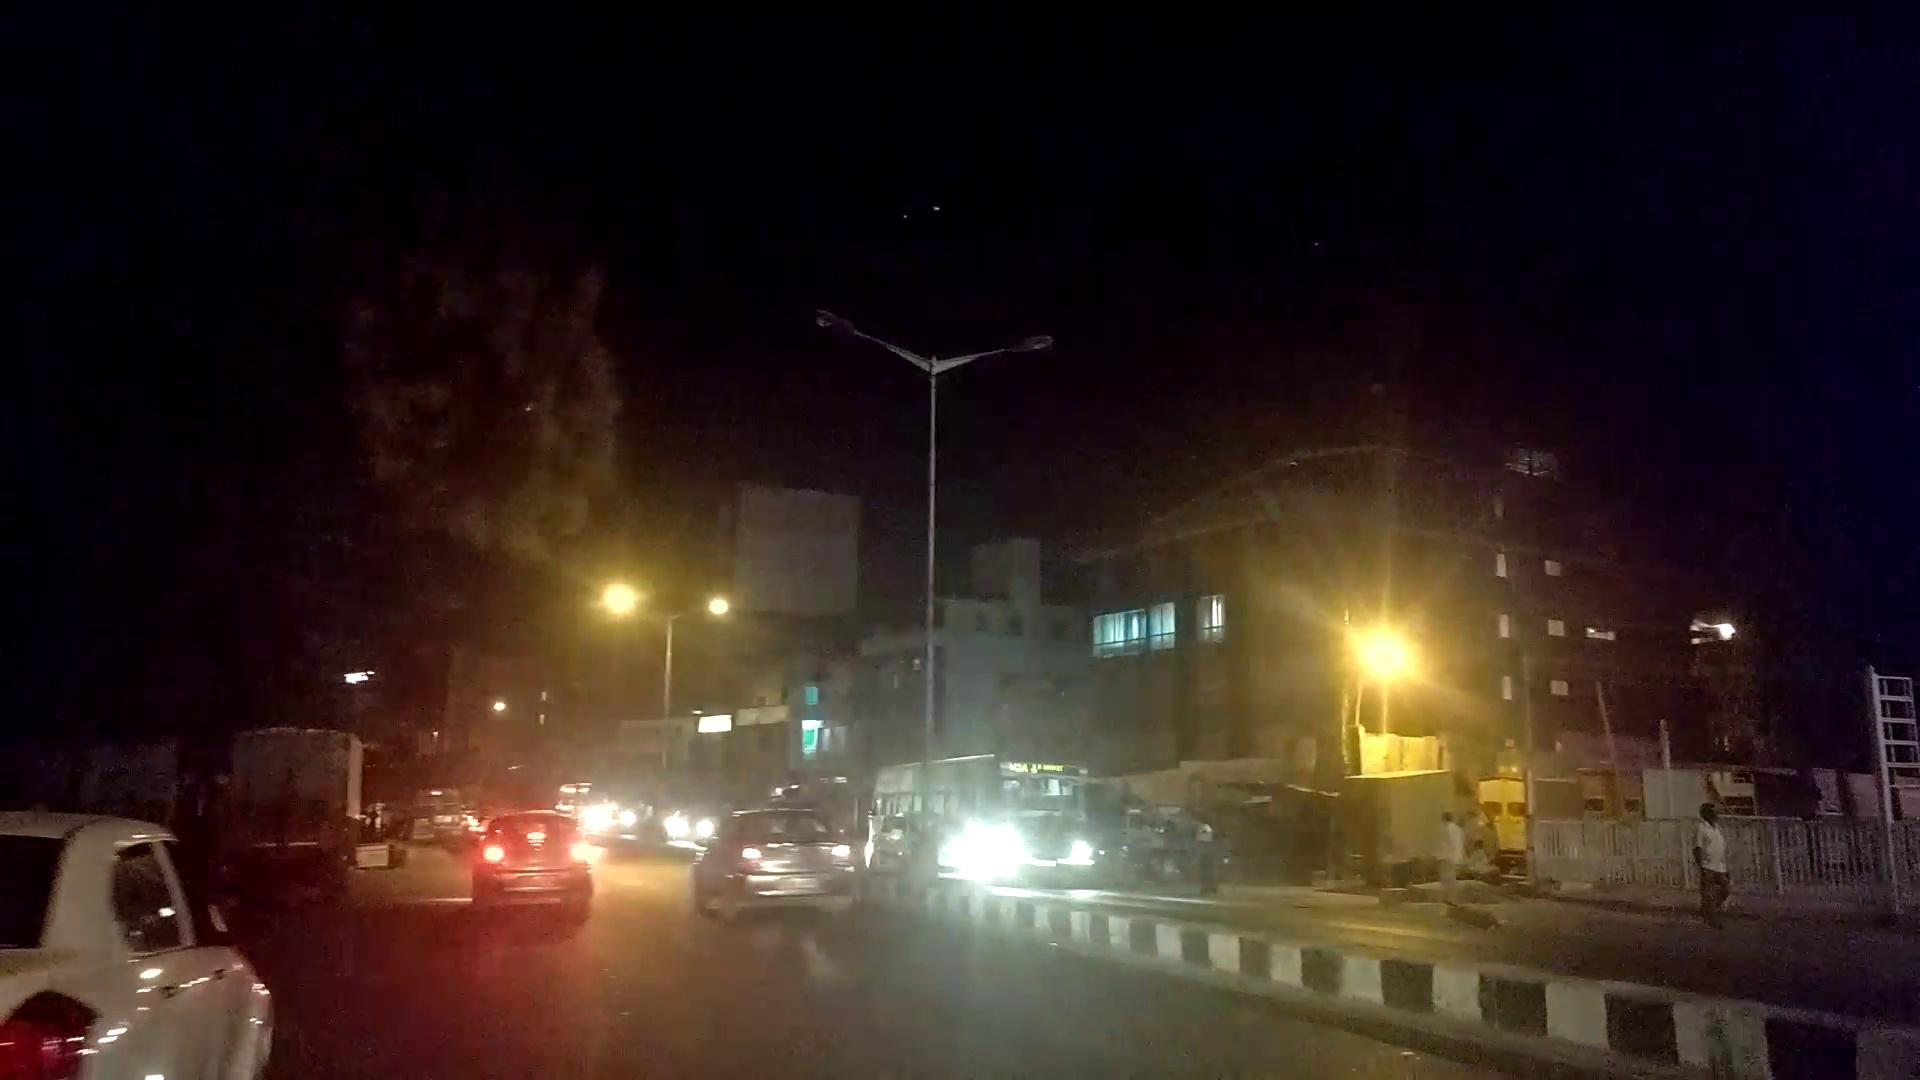on: (1130, 512, 1614, 835), (460, 452, 847, 707)
